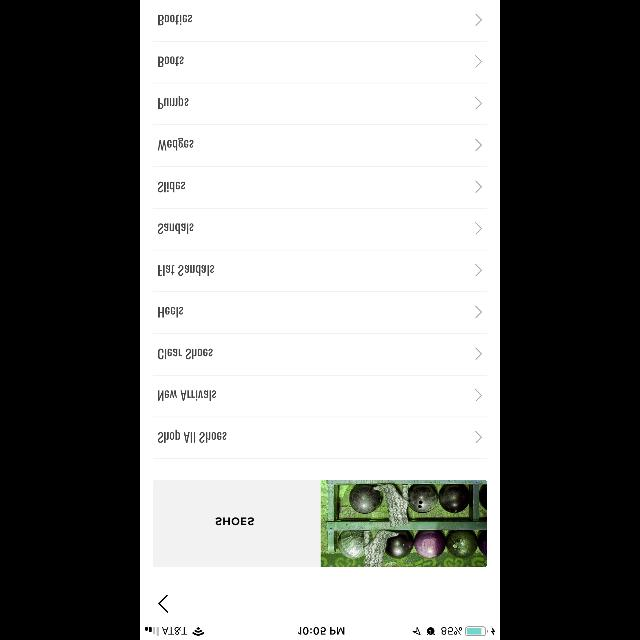icon: (158, 595, 168, 613), (476, 14, 482, 26), (476, 56, 482, 68), (476, 97, 482, 109), (476, 139, 482, 151), (476, 181, 482, 193), (476, 222, 482, 234), (476, 264, 482, 276), (476, 306, 482, 318), (476, 347, 482, 359), (476, 389, 482, 401), (476, 431, 482, 443)
image: (321, 479, 487, 566)
text: (158, 430, 228, 442), (159, 264, 215, 276), (159, 391, 217, 402), (158, 348, 212, 359), (158, 138, 194, 150), (158, 95, 190, 108), (159, 14, 193, 26), (158, 223, 194, 234), (158, 306, 184, 318), (158, 56, 184, 68), (216, 517, 254, 525), (158, 182, 186, 192)
uppertaskbar: (140, 626, 500, 640)
